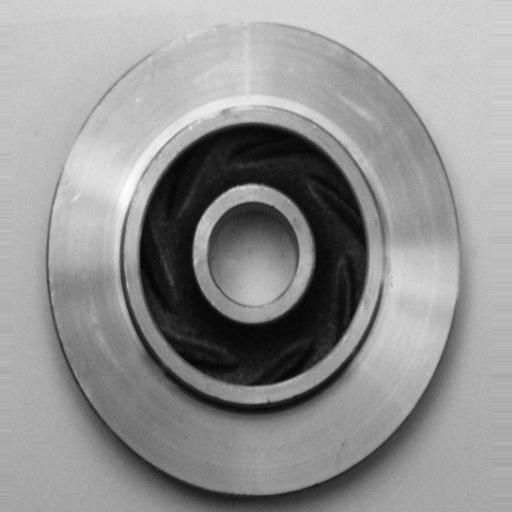unpolished_casting: (48, 20, 462, 502)
